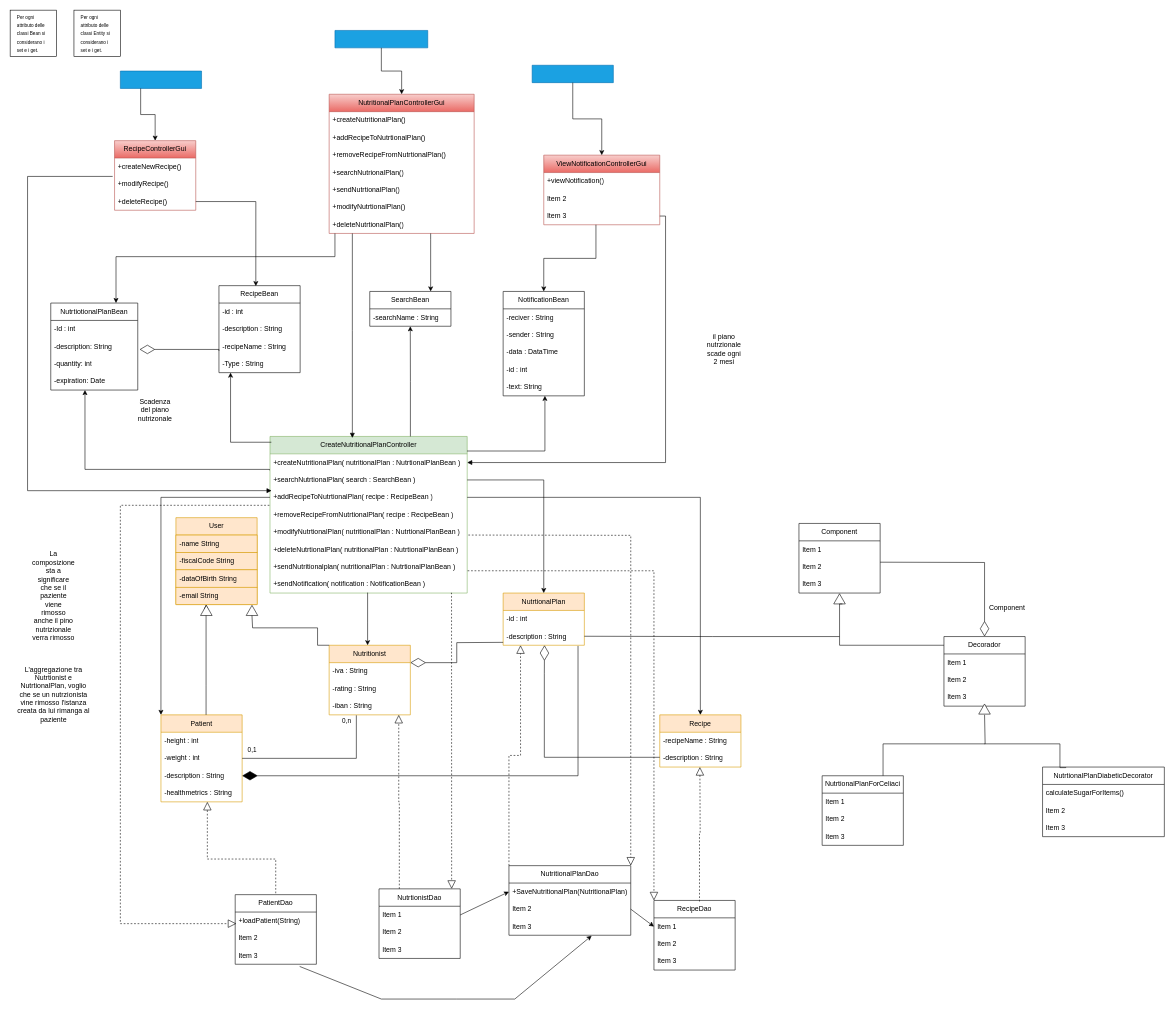
This 1175x1014 diagram has some shape labels left out. Here are the shapes that lost their labels. From the top down, the centre of each, then its label:
At [381,39]: "NutrtionalPlanView".
At [161,79]: "RecipeView".
At [572,74]: "NotificationView".
